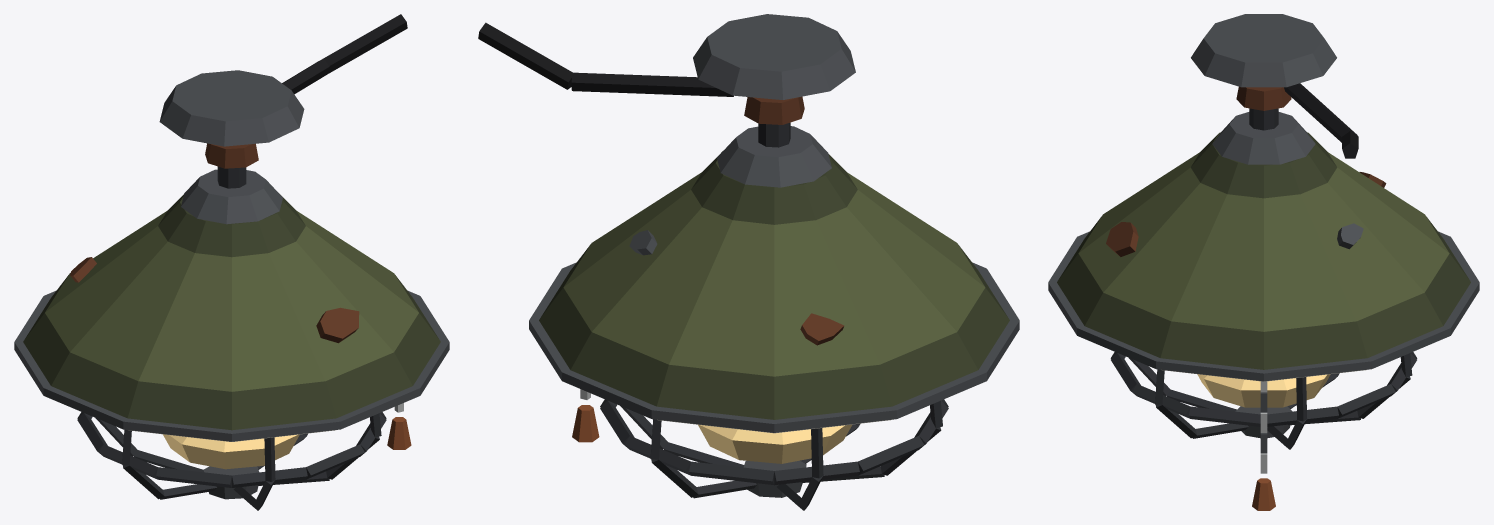
The model's file is bunker_lamp.fbx.
The picture shows the model from 3 angles, left to right: view 1: azimuth 30°, elevation 25°; view 2: azimuth 150°, elevation 25°; view 3: azimuth 270°, elevation 25°; orthographic projection. The views are drawn at different scales.
Visible parts, largest first — view 1: bunker_lamp; view 2: bunker_lamp; view 3: bunker_lamp.
Boxes of the visible parts, x1,y1,x2,y2 form: bunker_lamp: (14,14,449,510); bunker_lamp: (478,14,1019,510); bunker_lamp: (1048,14,1479,510).
Size of the model in its own units: 0.5374 by 0.498 by 0.5.
